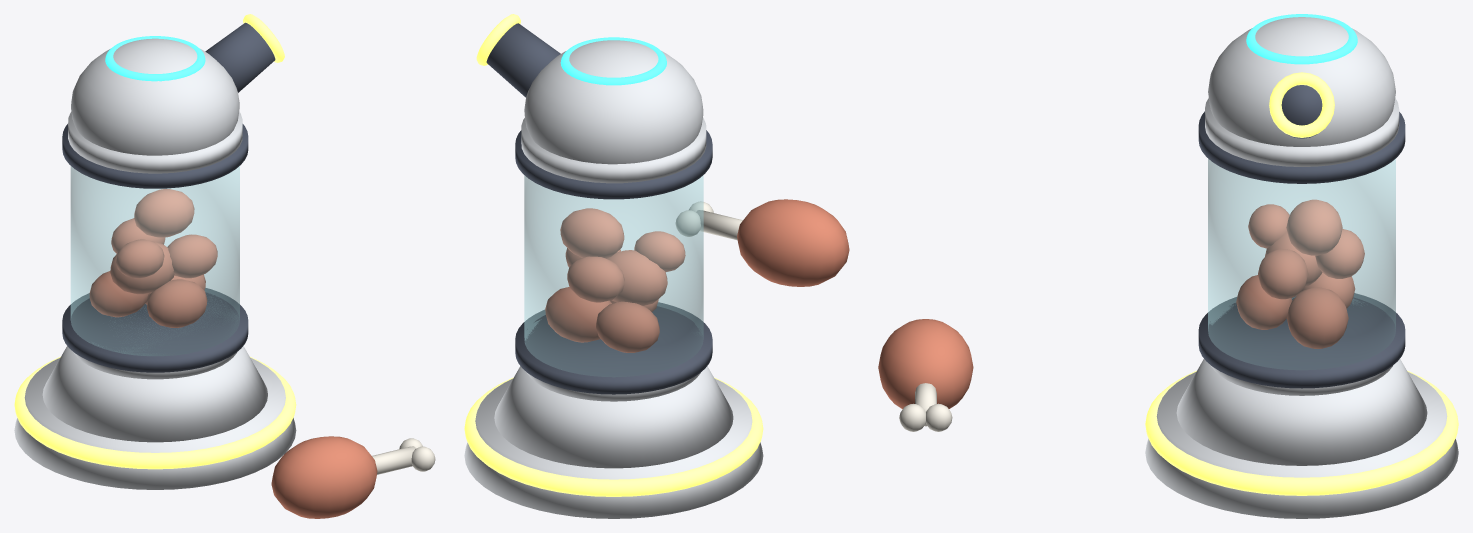
Rendered from auto_feeder_tower.glb.
The picture shows the model from 3 angles, left to right: view 1: azimuth 30°, elevation 25°; view 2: azimuth 150°, elevation 25°; view 3: azimuth 270°, elevation 25°; orthographic projection. The views are drawn at different scales.
Visible parts, largest first — view 1: Hopper, Base, Head, Collars, Meat_Store, Meat_Chunk, BaseRing, Barrel, Meat_Bone, HeadRing, Muzzle; view 2: Hopper, Base, Head, Collars, Meat_Store, Meat_Chunk, BaseRing, Barrel, Meat_Bone, HeadRing, Muzzle; view 3: Hopper, Base, Head, Collars, Meat_Store, BaseRing, Meat_Chunk, Muzzle, Meat_Bone, HeadRing, Barrel.
Boxes of the visible parts, bbox=[...] form: Hopper: bbox=[70, 166, 239, 355]; Base: bbox=[14, 346, 296, 489]; Head: bbox=[68, 38, 242, 173]; Collars: bbox=[62, 124, 248, 372]; Meat_Store: bbox=[89, 189, 217, 327]; Meat_Chunk: bbox=[271, 436, 377, 518]; BaseRing: bbox=[14, 356, 296, 469]; Barrel: bbox=[205, 22, 275, 92]; Meat_Bone: bbox=[372, 438, 435, 474]; HeadRing: bbox=[105, 36, 205, 81]; Muzzle: bbox=[243, 14, 284, 62]; Hopper: bbox=[524, 175, 703, 377]; Base: bbox=[464, 366, 763, 518]; Head: bbox=[521, 40, 706, 183]; Collars: bbox=[515, 130, 712, 394]; Meat_Store: bbox=[545, 208, 685, 352]; Meat_Chunk: bbox=[737, 199, 849, 286]; BaseRing: bbox=[464, 377, 763, 496]; Barrel: bbox=[486, 23, 560, 97]; Meat_Bone: bbox=[675, 201, 742, 240]; HeadRing: bbox=[560, 37, 666, 85]; Muzzle: bbox=[476, 14, 520, 65]; Hopper: bbox=[1208, 158, 1395, 369]; Base: bbox=[1145, 359, 1458, 518]; Head: bbox=[1205, 17, 1399, 166]; Collars: bbox=[1198, 111, 1405, 388]; Meat_Store: bbox=[1236, 199, 1364, 348]; BaseRing: bbox=[1145, 370, 1458, 495]; Meat_Chunk: bbox=[878, 319, 973, 409]; Muzzle: bbox=[1269, 72, 1334, 137]; Meat_Bone: bbox=[899, 383, 952, 431]; HeadRing: bbox=[1246, 14, 1357, 64]; Barrel: bbox=[1281, 85, 1322, 138].
Size of the model in its own units: 1 by 1.53 by 1.85.
